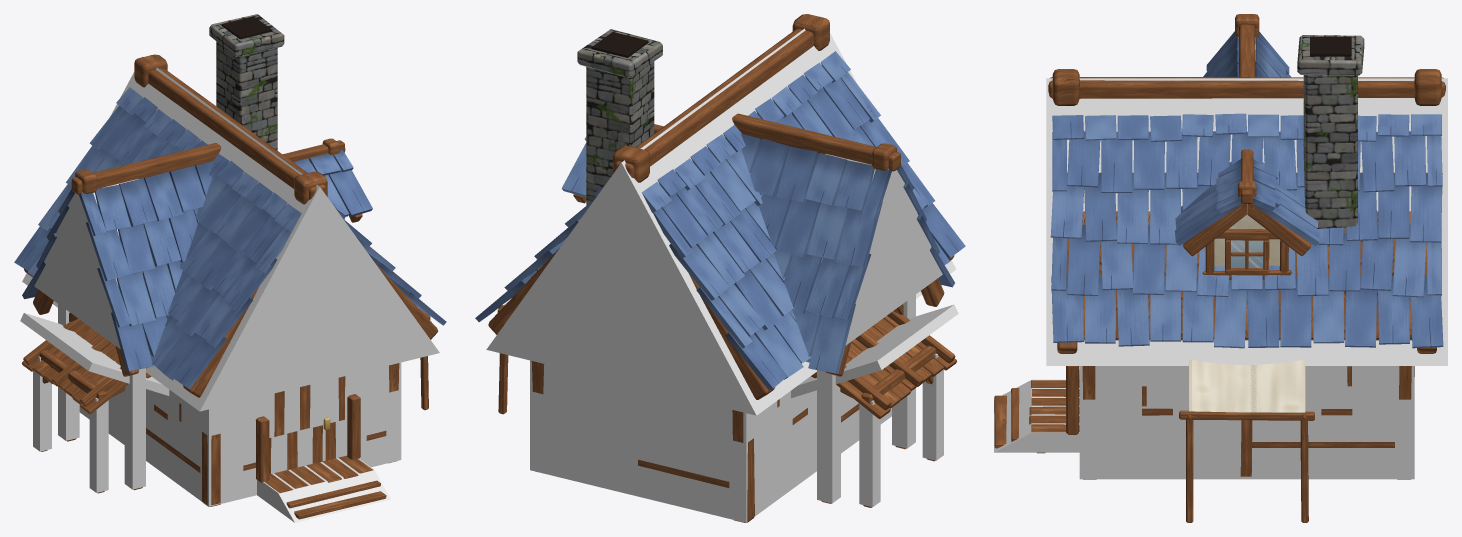
The model's file is SM_House_M.fbx.
The picture shows the model from 3 angles, left to right: view 1: azimuth 30°, elevation 25°; view 2: azimuth 150°, elevation 25°; view 3: azimuth 270°, elevation 25°; orthographic projection. The views are drawn at different scales.
Visible parts, largest first — view 1: House_M_Col1, House_M_Roof, House_M_Col0, House_M_CrossGableRoof, House_M_Body, House_M_Chimney, House_M_CrossGableCol2, House_M_Porch, House_M_LeanTo, House_M_CrossGable, House_M_PorchCol0, House_M_LeanToCol2 (+6 smaller); view 2: House_M_Col1, House_M_Roof, House_M_Col0, House_M_CrossGableRoof, House_M_Body, House_M_Chimney, House_M_CrossGableCol2, House_M_LeanTo, House_M_CrossGable, House_M_LeanToCol2, House_M_CrossGableCol1, House_M_LeanToCol1 (+4 smaller); view 3: House_M_Roof, House_M_Col0, House_M_Col1, House_M_Body, House_M_Chimney, House_M_Awning, House_M_Dormer, House_M_DormerRoof, House_M_Porch, House_M_PorchCol0, House_M_CrossGableRoof, House_M_CrossGable.
Part boxes in pixels (box(x1,y1,x2,y2)): House_M_Col1: box(22, 56, 439, 411); House_M_Roof: box(14, 87, 446, 389); House_M_Col0: box(79, 362, 401, 506); House_M_CrossGableRoof: box(22, 161, 213, 371); House_M_Body: box(24, 54, 437, 506); House_M_Chimney: box(209, 14, 284, 150); House_M_CrossGableCol2: box(34, 179, 142, 349); House_M_Porch: box(255, 394, 386, 519); House_M_LeanTo: box(22, 318, 151, 493); House_M_CrossGable: box(33, 143, 221, 490); House_M_PorchCol0: box(257, 458, 390, 522); House_M_LeanToCol2: box(20, 313, 169, 395); House_M_Col1: box(486, 16, 956, 415); House_M_Roof: box(475, 51, 965, 390); House_M_Col0: box(530, 360, 891, 522); House_M_CrossGableRoof: box(741, 133, 954, 373); House_M_Body: box(488, 14, 954, 522); House_M_Chimney: box(577, 29, 662, 205); House_M_CrossGableCol2: box(821, 154, 942, 345); House_M_LeanTo: box(811, 311, 956, 507); House_M_CrossGable: box(732, 113, 944, 503); House_M_LeanToCol2: box(791, 304, 958, 398); House_M_CrossGableCol1: box(817, 370, 840, 503); House_M_LeanToCol1: box(859, 400, 880, 507); House_M_Roof: box(1050, 113, 1443, 348); House_M_Col0: box(1079, 366, 1414, 479); House_M_Col1: box(1046, 78, 1447, 365); House_M_Body: box(1048, 69, 1445, 479); House_M_Chimney: box(1297, 35, 1364, 246); House_M_Awning: box(1179, 359, 1314, 522); House_M_Dormer: box(1183, 149, 1310, 279); House_M_DormerRoof: box(1174, 159, 1319, 245); House_M_Porch: box(994, 366, 1079, 453); House_M_PorchCol0: box(994, 379, 1079, 452); House_M_CrossGableRoof: box(1203, 31, 1290, 77); House_M_CrossGable: box(1235, 14, 1259, 77).
Size of the model in its own units: 21.95 by 21.76 by 21.7.
